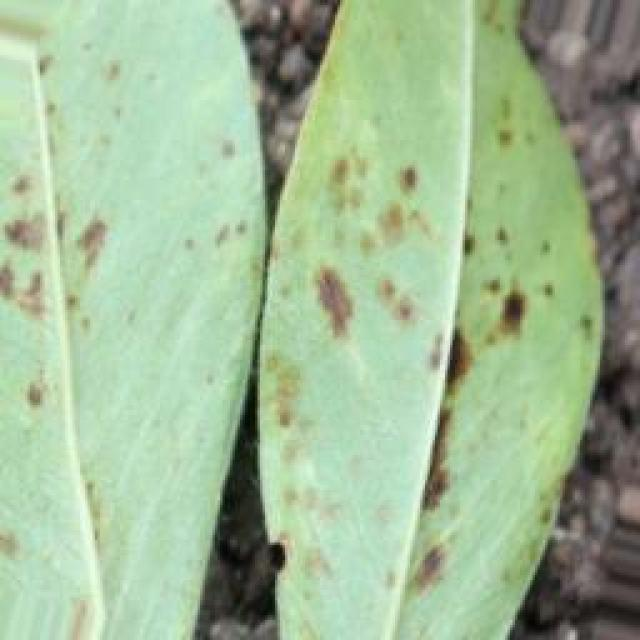Whitefly: (0, 0, 550, 639)
